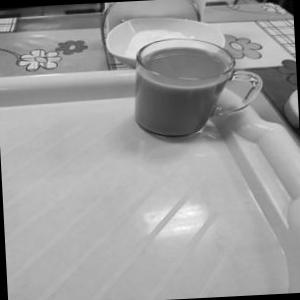coffee: (123, 21, 268, 164)
